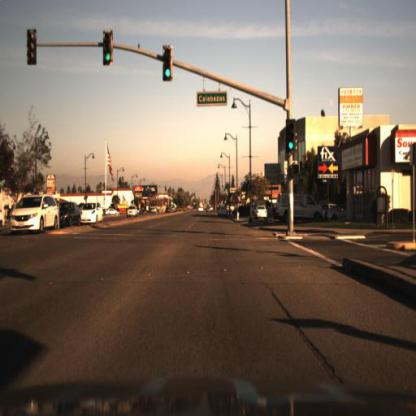car: (11, 194, 62, 238), (276, 188, 323, 228), (57, 200, 84, 229), (80, 202, 106, 232), (326, 205, 350, 221), (127, 205, 141, 221), (105, 204, 120, 217), (258, 204, 270, 220), (219, 207, 230, 221)
trafficLight-Green: (287, 117, 297, 157), (104, 29, 114, 66), (164, 48, 173, 84)
